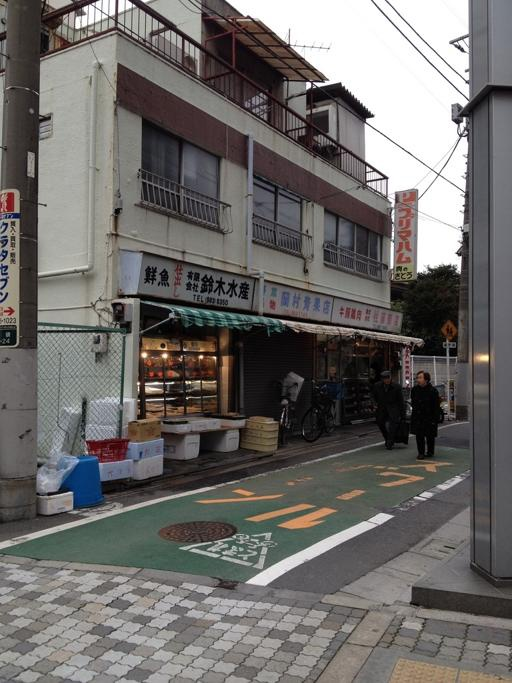non-vehicle: (300, 378, 344, 443), (279, 380, 297, 447)
